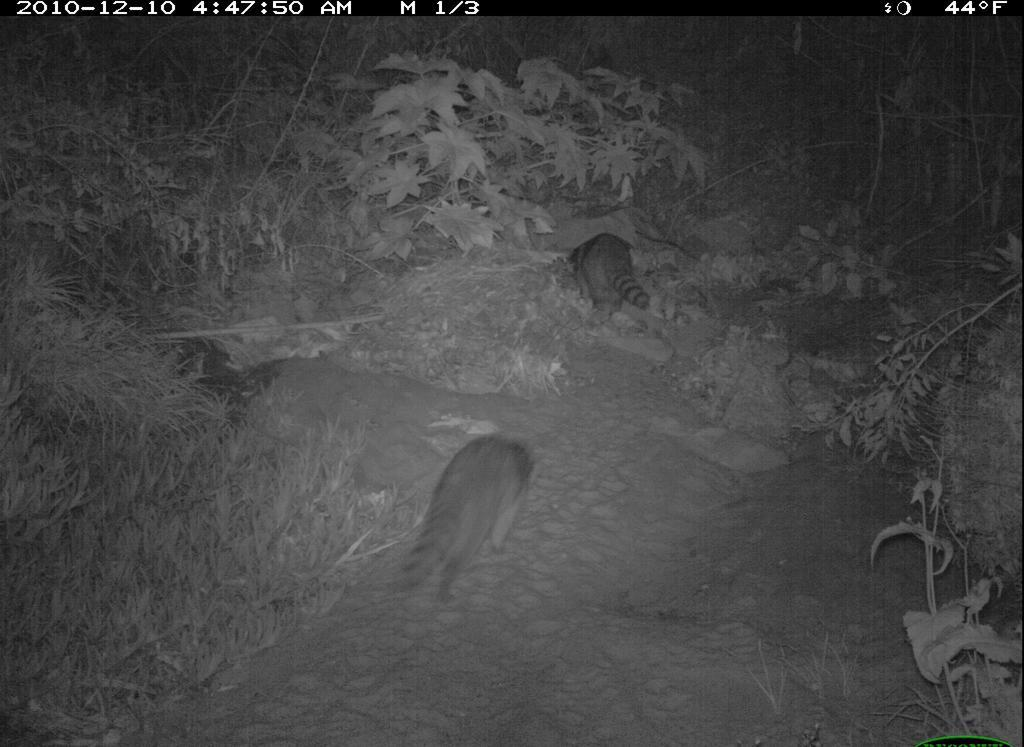raccoon: (395, 429, 555, 607), (553, 228, 671, 336)
